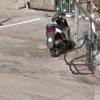Motorcycle: (35, 10, 80, 55)
